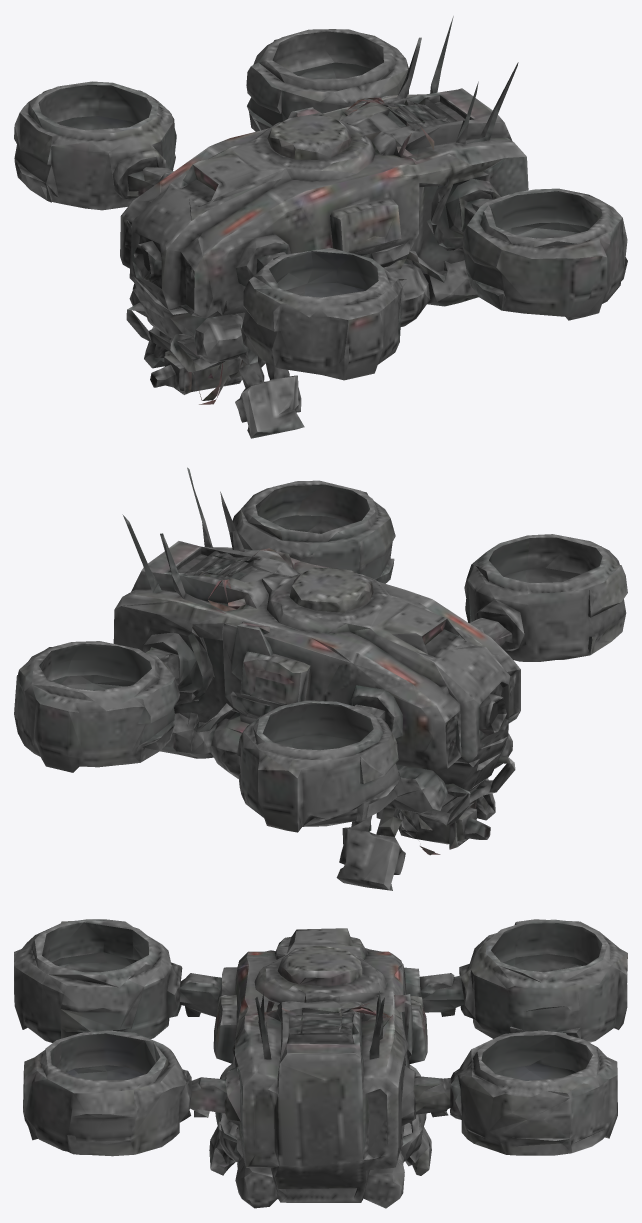
File: unit.drone.glb
3 views of the same model, one above another, from view 1: azimuth 30°, elevation 25°; view 2: azimuth 150°, elevation 25°; view 3: azimuth 270°, elevation 25° (orthographic).
Visible parts, largest first — view 1: body; view 2: body; view 3: body.
Boxes of the visible parts, x1,y1,x2,y2 form: body: (14, 16, 627, 438); body: (14, 467, 627, 890); body: (14, 919, 627, 1208).
Size of the model in its own units: 0.6892 by 0.5284 by 0.9957.
1 material, 1 textured.
